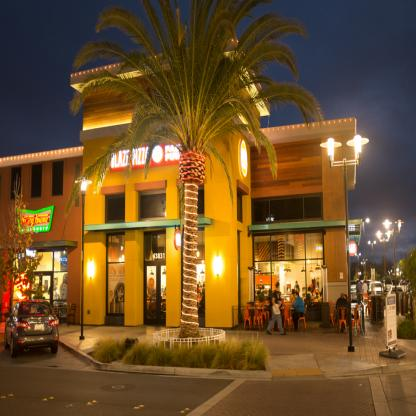Car: (5, 298, 60, 357), (370, 283, 384, 295), (390, 285, 405, 295), (350, 285, 357, 306)
